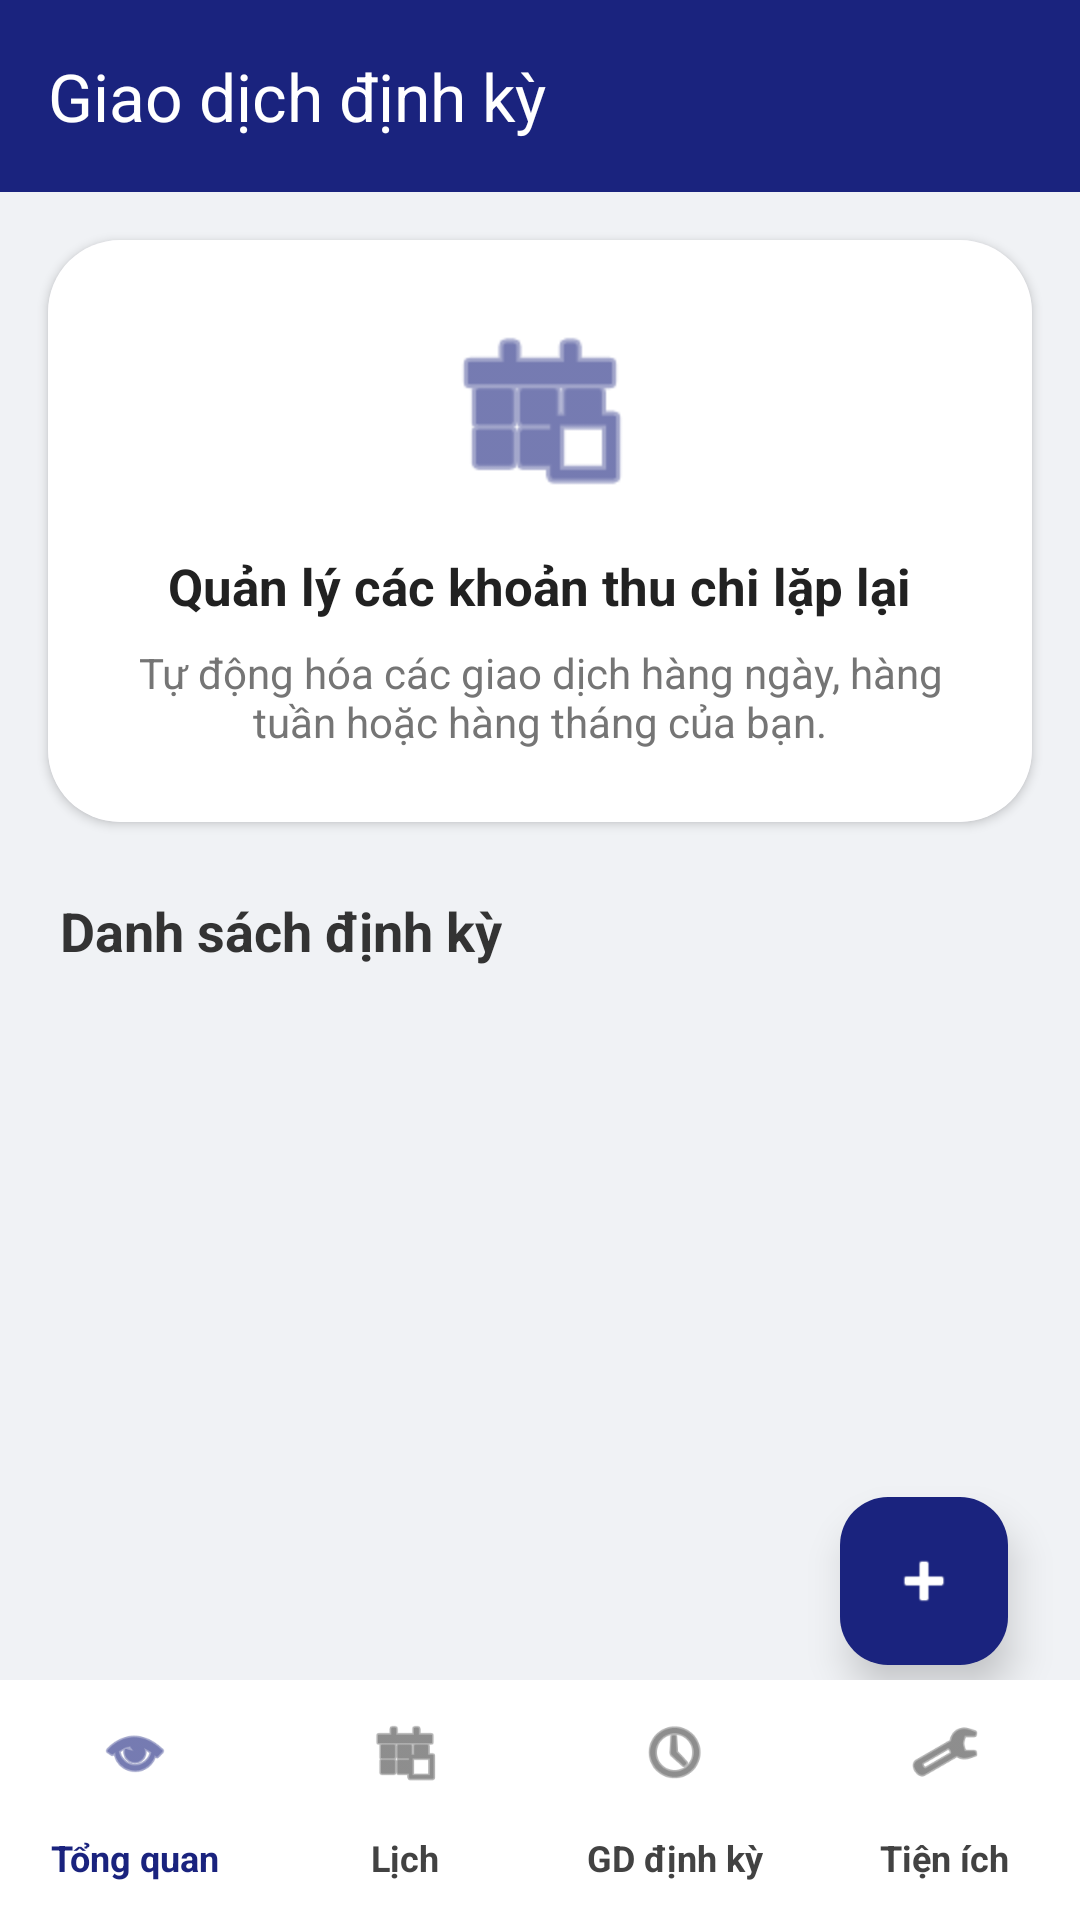

Icon click points for this 1080*1920 phone screenshot, format [x,y]:
Thêm định kỳ: [924,1581]
today: [542,411]
